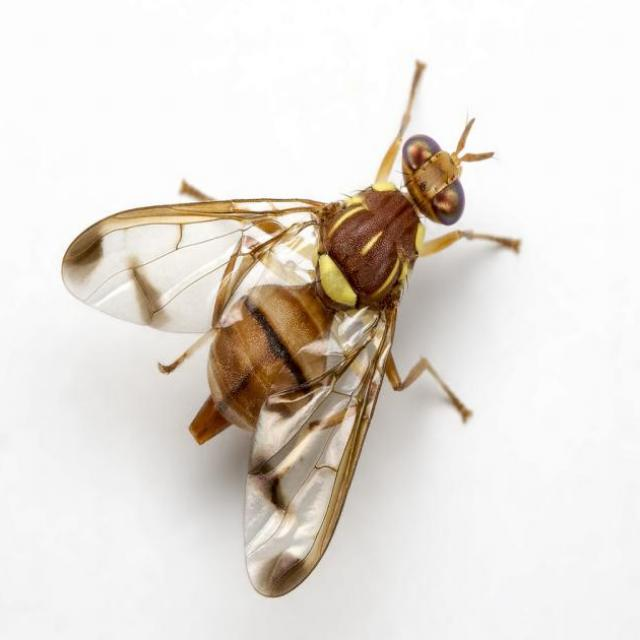Fruit fly: (48, 45, 531, 604)
